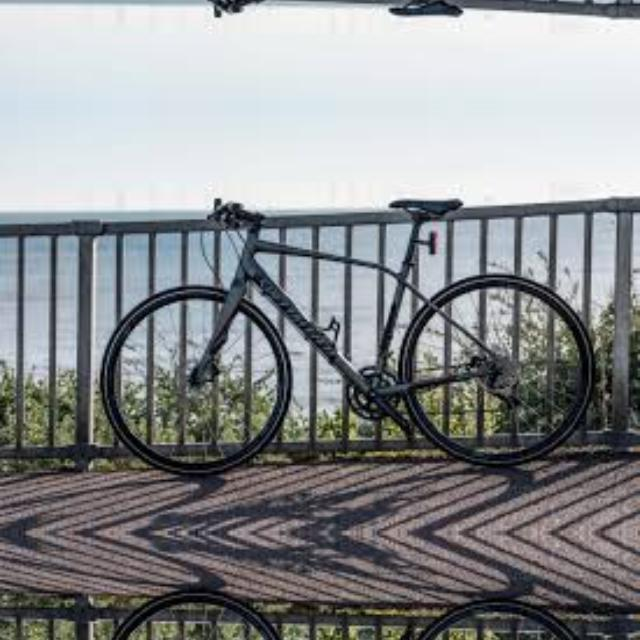obstacle: (70, 148, 620, 492), (69, 573, 620, 640), (69, 0, 620, 65)
